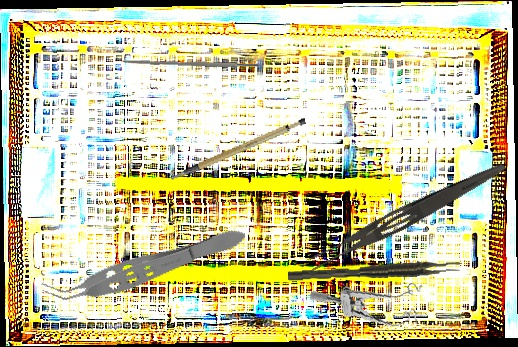Dressing Forceps: (302, 152, 509, 278)
Scalpel Handle: (163, 115, 312, 181), (121, 58, 264, 70)
Speculum: (307, 273, 431, 341)
Tissue Forceps: (38, 218, 251, 316), (287, 260, 461, 281)
